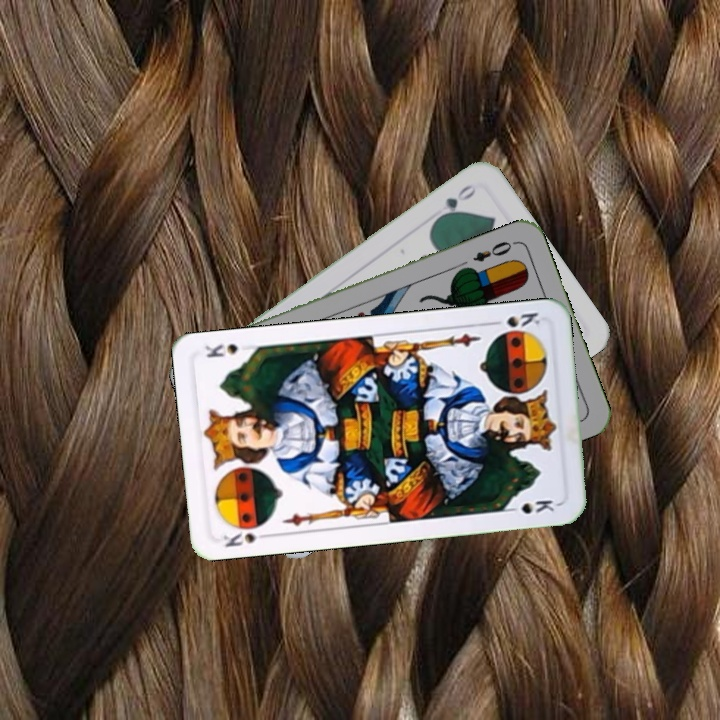EO: (469, 237, 519, 265)
GO: (432, 180, 480, 223)
SK: (219, 519, 274, 550), (485, 308, 543, 330)
